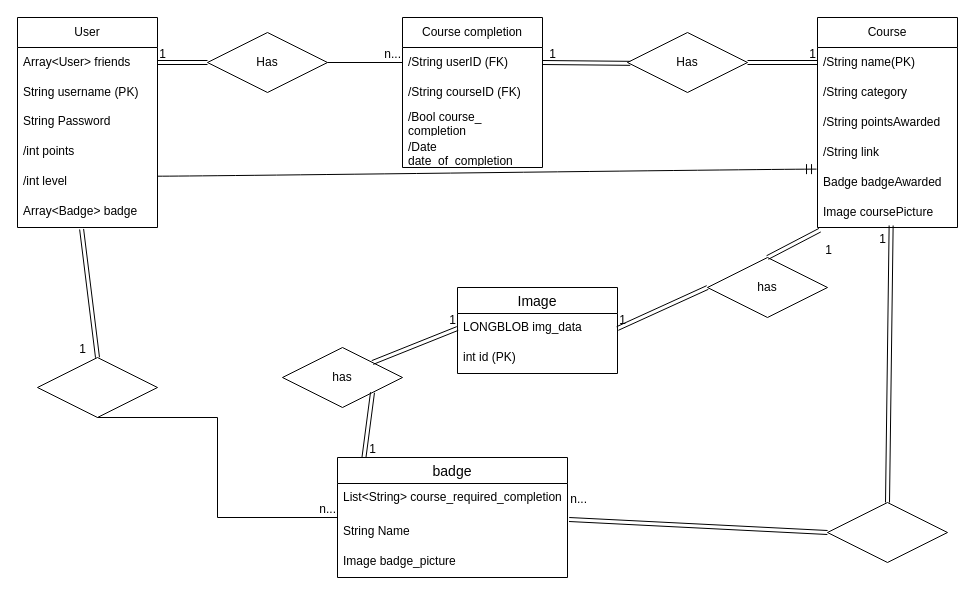
Some shapes in this 975 by 598 pixel diagram are drawn without their labels. The shapes that lost their labels are listed below. From the top down, each one's centre as x and y in pixels, then its label:
At pixel 97 387: "Earns".
At pixel 887 532: "Awards".
